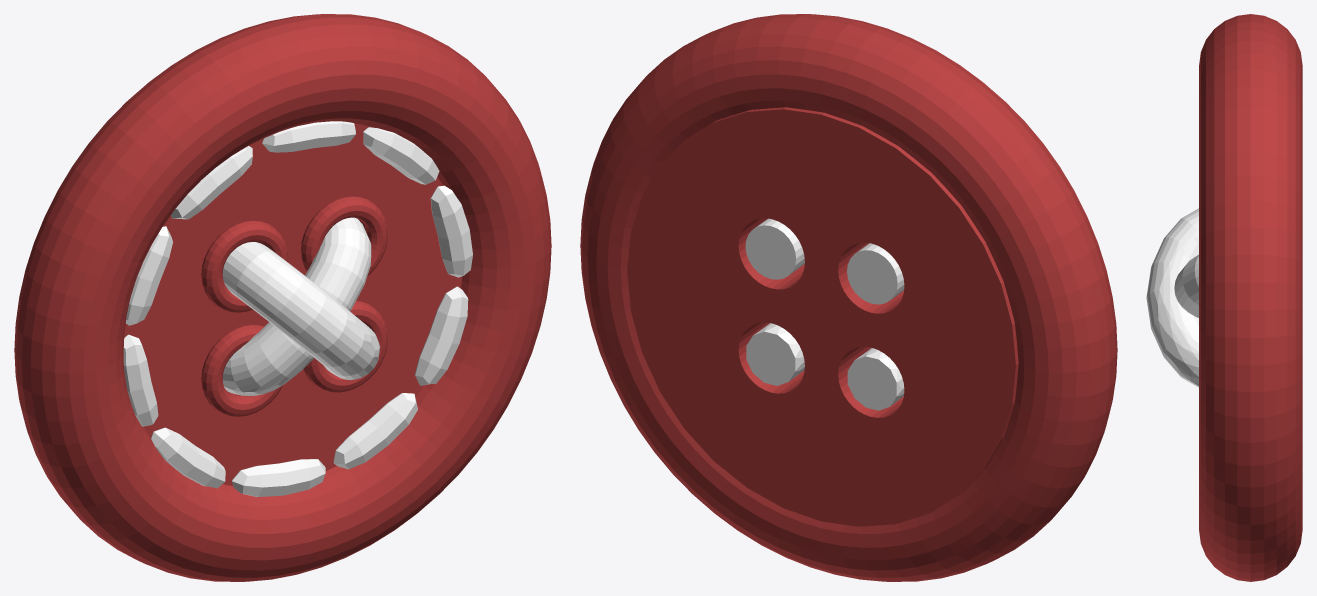
The model's file is Button_thread_v2.glb.
The picture shows the model from 3 angles, left to right: view 1: azimuth 30°, elevation 25°; view 2: azimuth 150°, elevation 25°; view 3: azimuth 270°, elevation 25°; orthographic projection. The views are drawn at different scales.
Parts seen in each view (by area): view 1: Button_body, Circle.002, Circle.003; view 2: Button_body, Circle.003; view 3: Button_body, Circle.003.
Boxes of the visible parts, left/top/right/bottom form: Button_body: left=14, top=14, right=551, bottom=581; Circle.002: left=123, top=121, right=472, bottom=496; Circle.003: left=222, top=217, right=380, bottom=395; Button_body: left=580, top=14, right=1117, bottom=581; Circle.003: left=745, top=218, right=904, bottom=410; Button_body: left=1199, top=14, right=1302, bottom=581; Circle.003: left=1146, top=208, right=1198, bottom=387.
Size of the model in its own units: 15.75 by 15.75 by 4.32.
